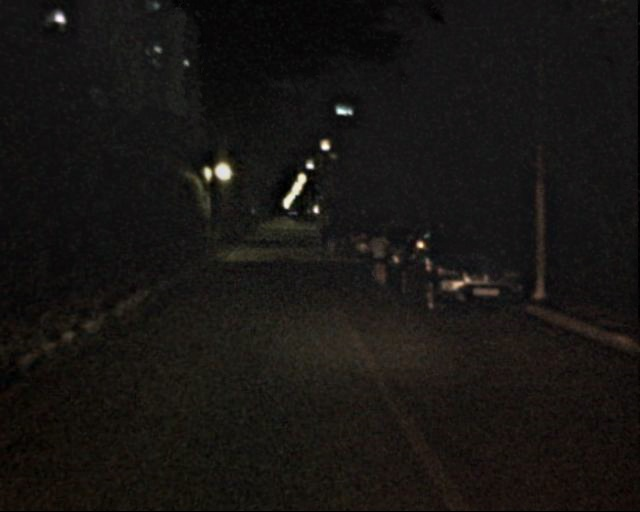person: (363, 225, 390, 291), (323, 220, 338, 256), (313, 224, 323, 249)
